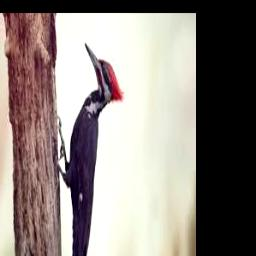Woodpecker: (57, 41, 123, 256)
